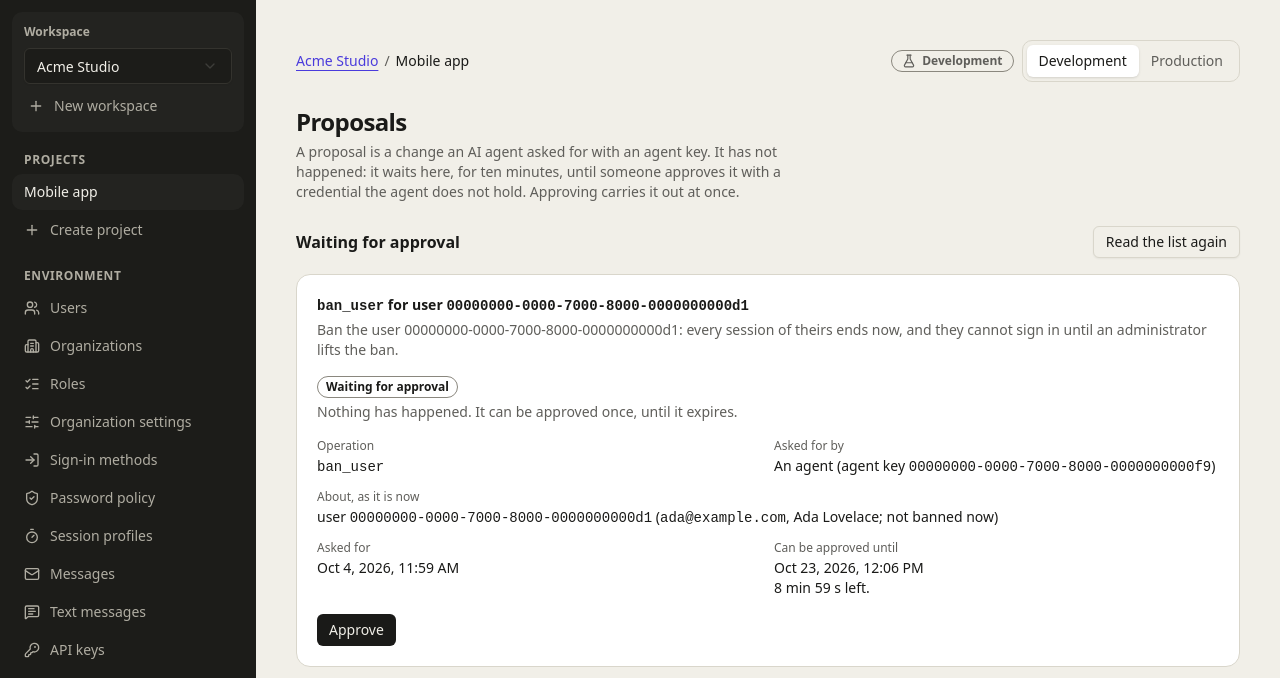
Scenario: approving › ban_user: the question names it, and what is sent is the operation and the target that were shown
The width and height of the screenshot is (1280, 678).
Check: the number of elements with test id "proposal" is 1, box [296,274,1240,667]
Click the button "Approve". click: (356, 630)
box: [317,614,396,646]
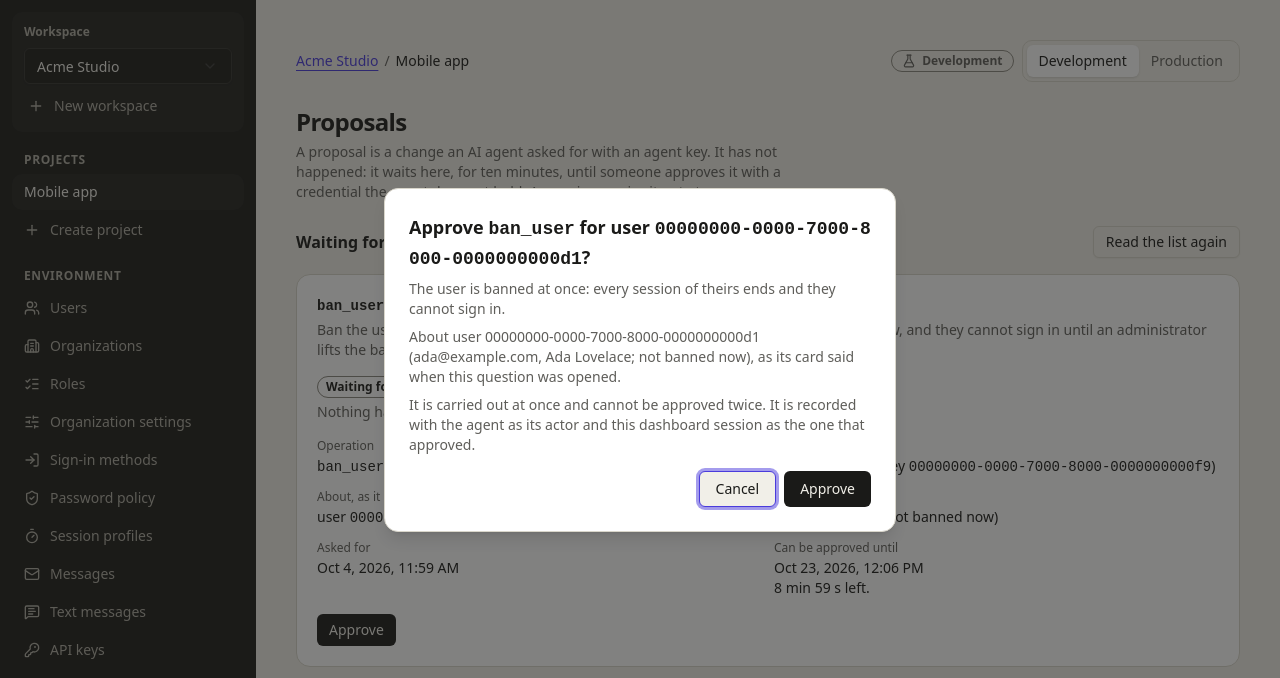
Check: the text with test id "approve-consequence" shows "The user is banned at once: every session of theirs ends and they cannot sign in.", box [409,279,836,318]
Click the button "Approve". click: (828, 489)
box: [784,471,871,507]
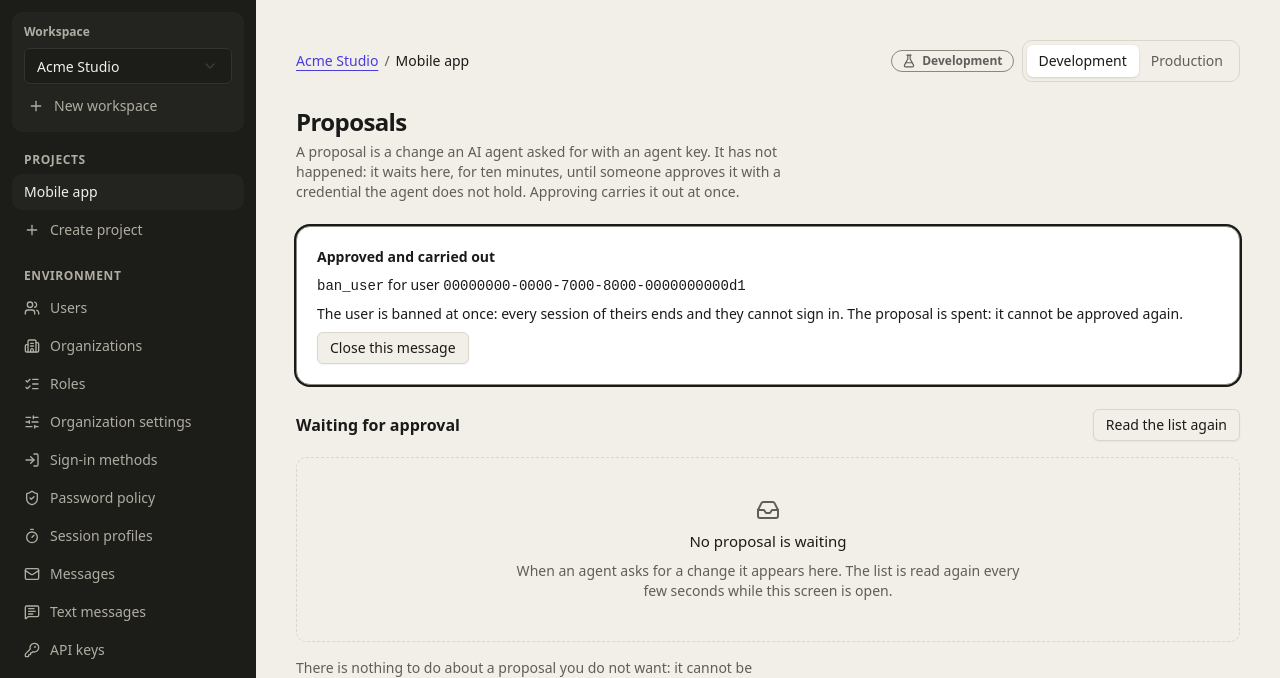
Check: the message with test id "approval-result" shows "Approved and carried out", box [317,247,495,266]
Check: the text "No proposal is waiting" is shown, box [690,530,847,552]
Click the button "Close this message". click: (393, 348)
box: [317,332,469,364]
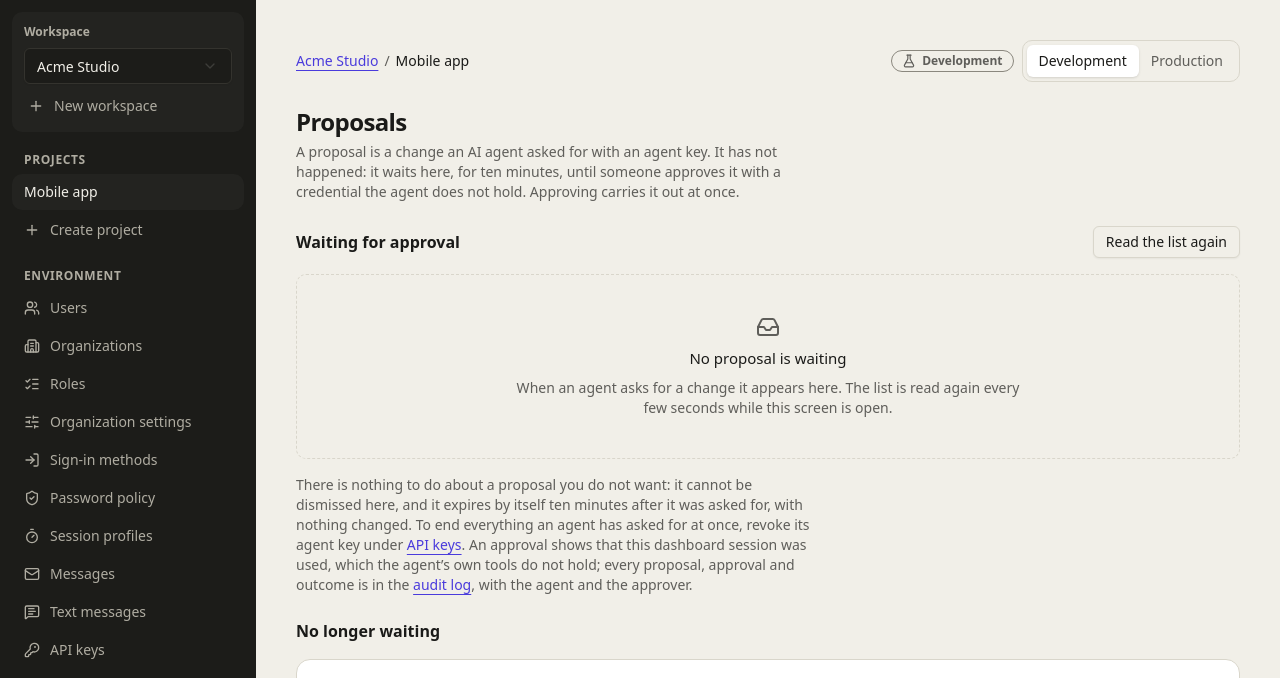
Check: no messages with test id "approval-result" are shown
